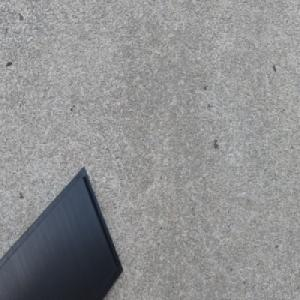PlasticPart: (1, 163, 126, 300)
